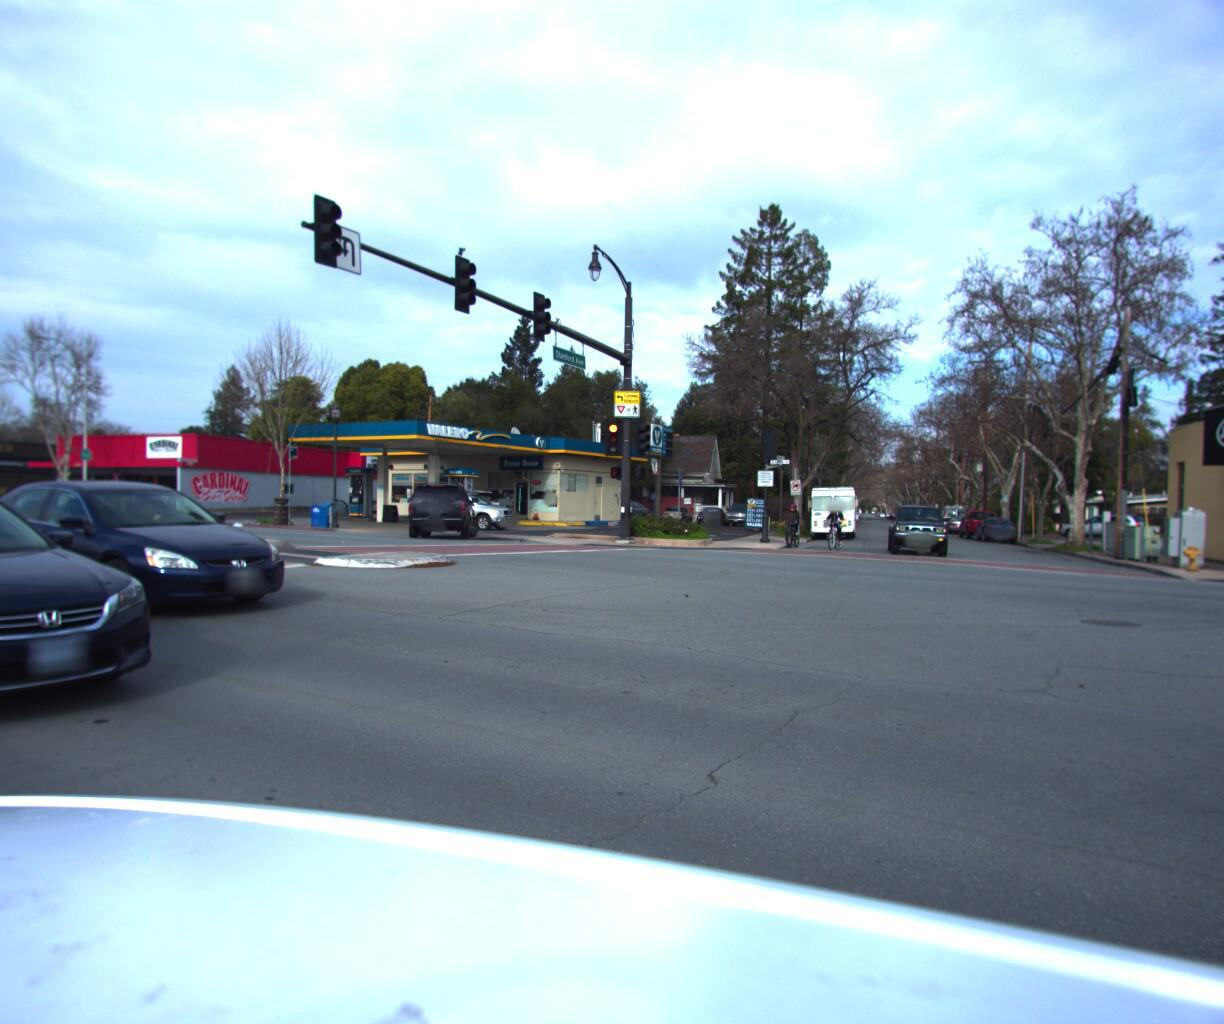bicycle: (816, 497, 852, 546), (771, 497, 808, 543)
car: (0, 479, 193, 769), (0, 477, 311, 622), (403, 484, 521, 526), (409, 478, 475, 537), (883, 502, 951, 555), (1056, 506, 1153, 536), (956, 502, 1007, 535), (970, 509, 1017, 538), (935, 498, 970, 527), (723, 502, 760, 524), (661, 499, 696, 520), (694, 503, 728, 522)
truck: (803, 480, 859, 538)
